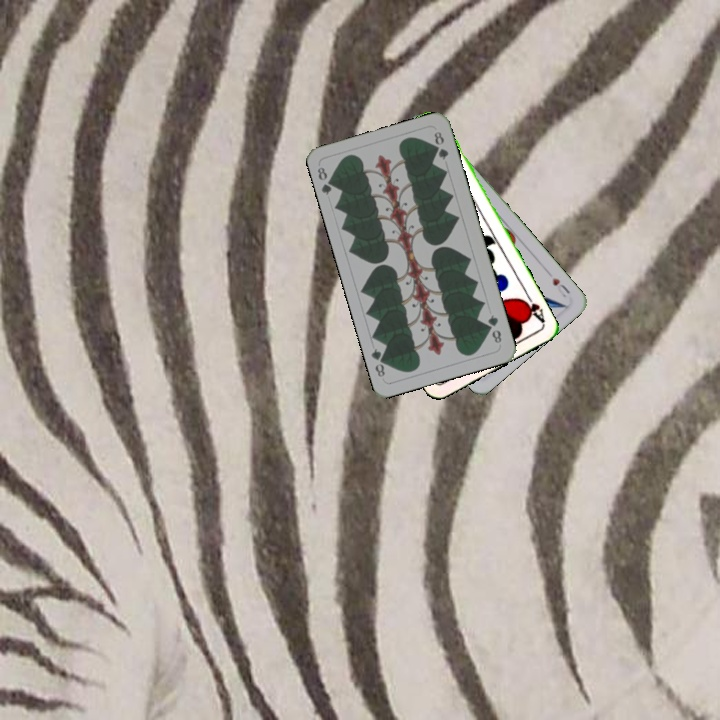G8: (313, 163, 338, 198), (484, 311, 504, 346)
HA: (517, 288, 548, 326)
HU: (548, 273, 573, 300)
